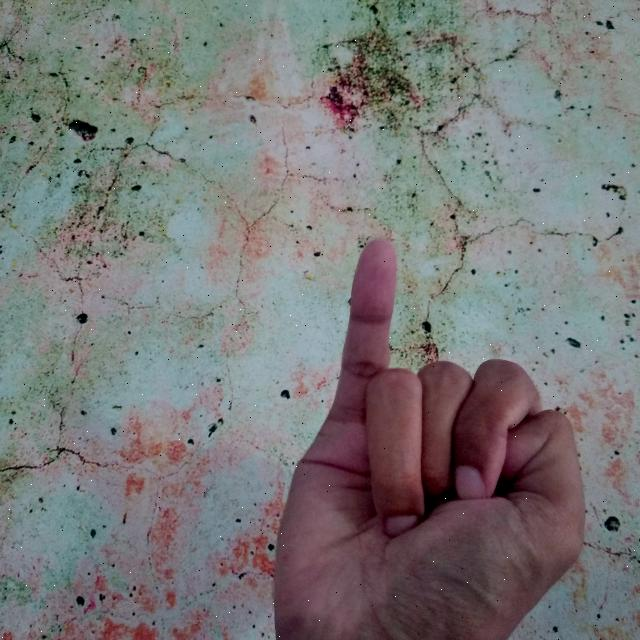I: (272, 233, 587, 640)
